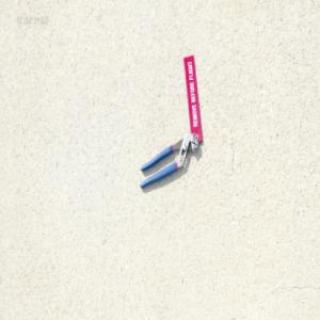LuggageTagtrack_idkeyframe: (184, 54, 204, 141)
Pliertrack_idkeyframe: (139, 130, 199, 189)
